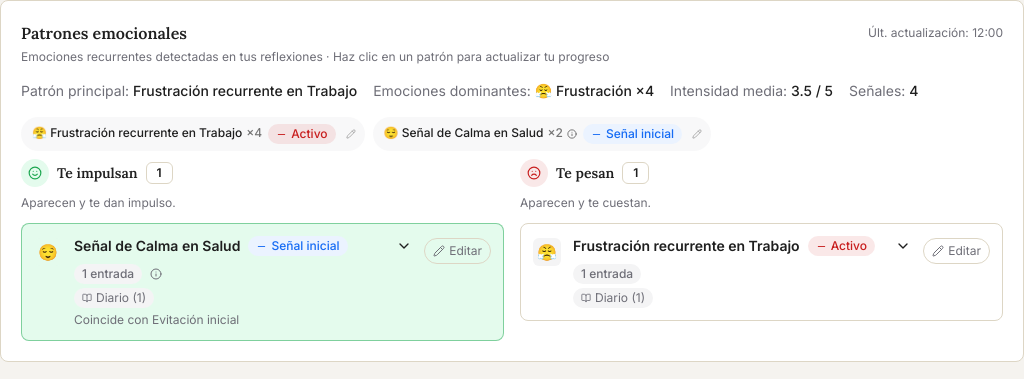
Scenario: EmotionalPatternsPanel › clicking a chip filters the timeline by pattern_key, and "Ver todos" clears it
Click the button titled "Filtrar evidencias por este patrón": (182, 134) [22,118,342,150]
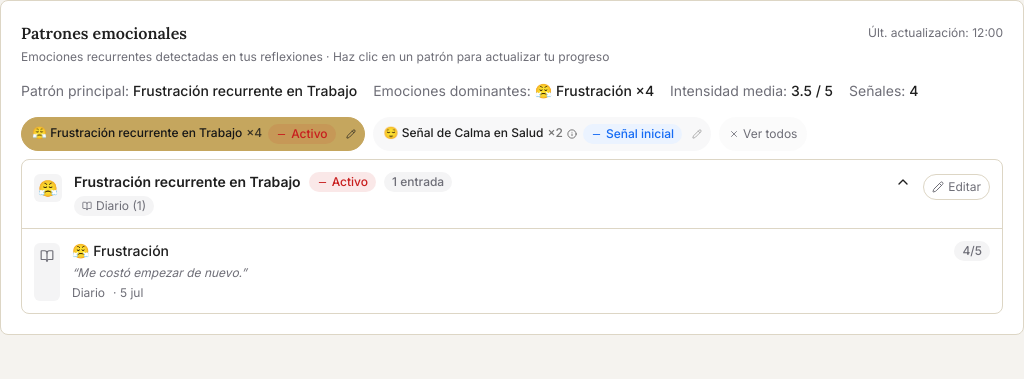
Result: the text "“Me costó empezar de nuevo.”" is shown once at [72,265,247,280]
Click the button "Ver todos": (763, 134) [719,117,808,151]
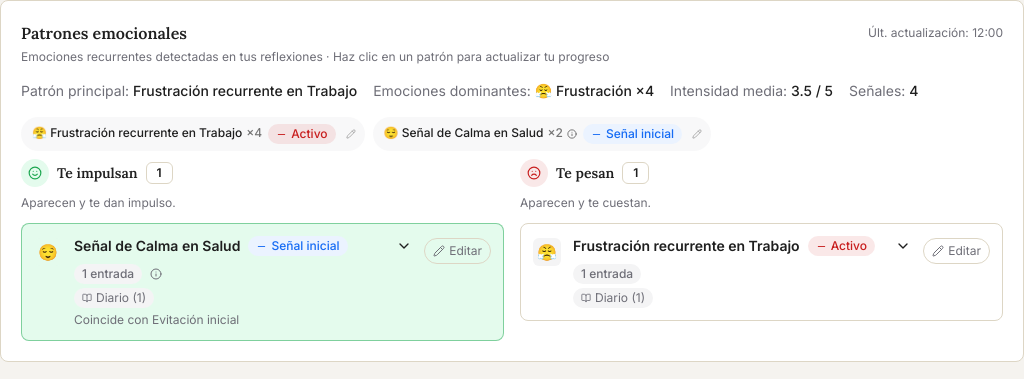
Expected: the element with test id "emotional-pattern-group-recurring_emotion_in_context:frustracion:trabajo" is shown, [520,223,1003,321]
Result: the element with test id "emotional-pattern-group-recurring_emotion_in_context:calma:salud" is shown at [21,223,504,341]
Result: the text "Me costó empezar de nuevo." is gone
